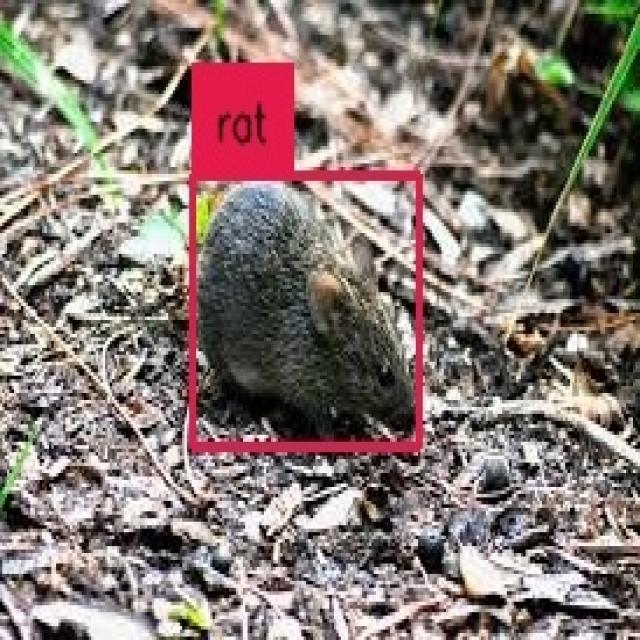rat: (192, 176, 420, 447)
